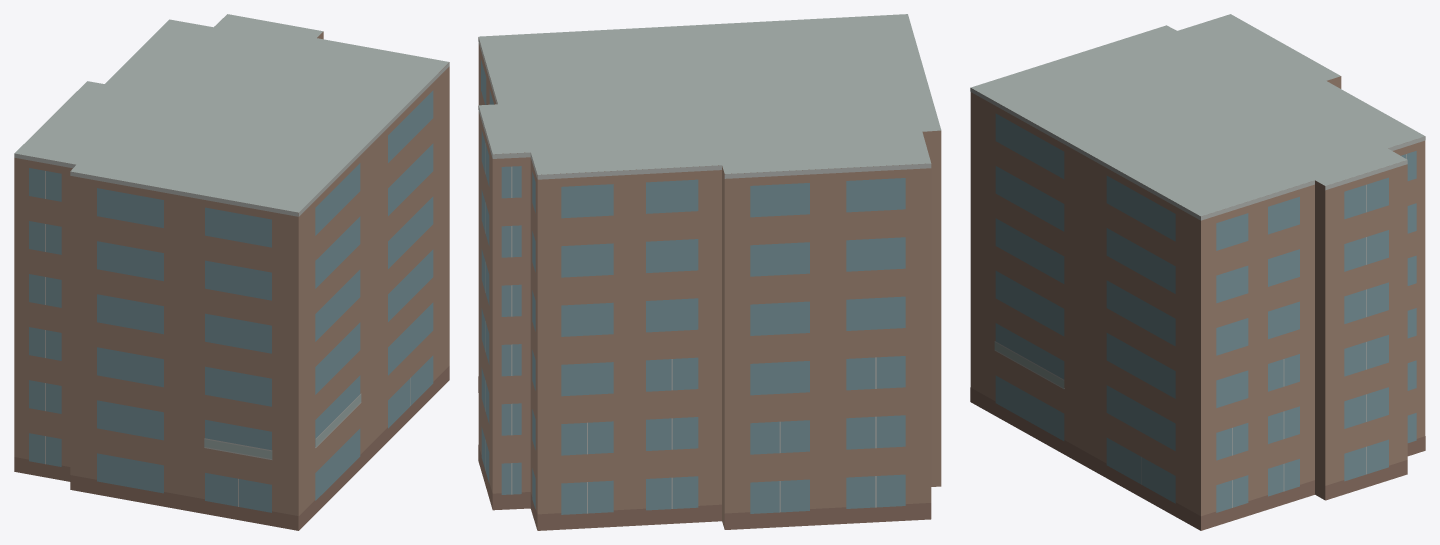
File: survey-upis-32575415.glb
3 renders of one model, left to right at view 1: azimuth 30°, elevation 25°; view 2: azimuth 150°, elevation 25°; view 3: azimuth 270°, elevation 25°, orthographic. The views are drawn at different scales.
Parts seen in each view (by area): view 1: survey-upis-32575415.tmp; view 2: survey-upis-32575415.tmp; view 3: survey-upis-32575415.tmp.
Boxes of the visible parts, x1,y1,x2,y2 form: survey-upis-32575415.tmp: (14, 14, 449, 530); survey-upis-32575415.tmp: (478, 14, 941, 530); survey-upis-32575415.tmp: (970, 14, 1425, 530).
Size of the model in its own units: 25.14 by 18.2 by 23.88.
